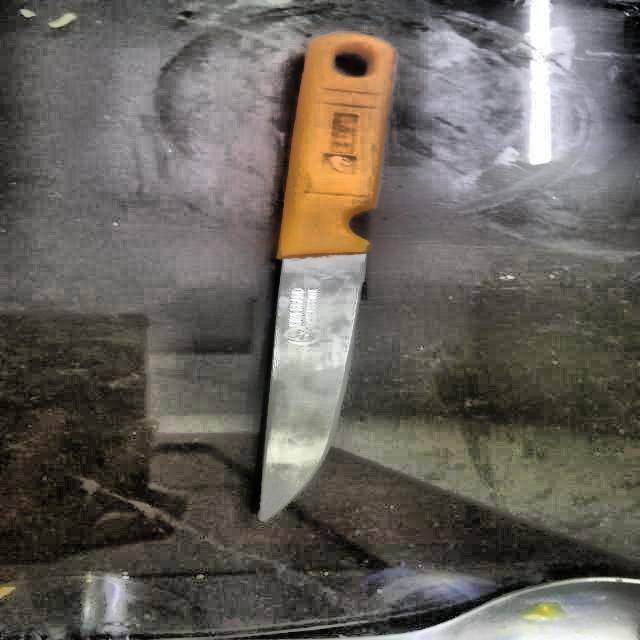knife: (258, 32, 395, 519)
